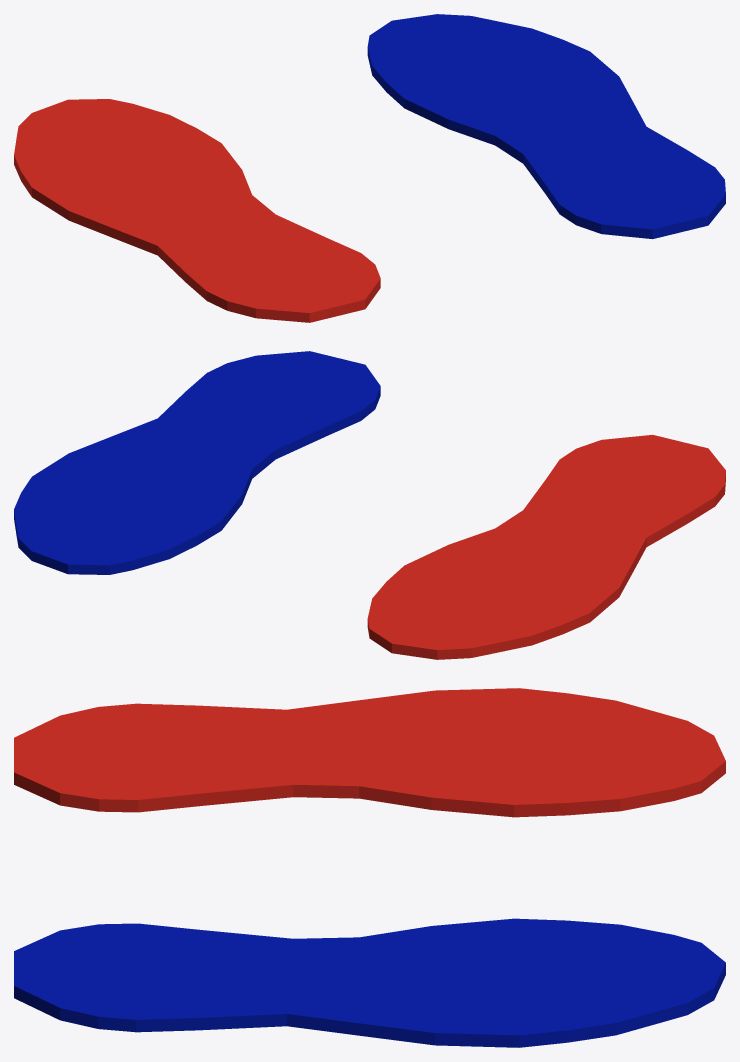
File: objetos_solas.fbx
3 renders of one model, top to bottom at view 1: azimuth 30°, elevation 25°; view 2: azimuth 150°, elevation 25°; view 3: azimuth 270°, elevation 25°, orthographic. The views are drawn at different scales.
Parts seen in each view (by area): view 1: solas; view 2: solas; view 3: solas.
Part boxes in pixels (<box>): solas: <box>14,14,725,322</box>; solas: <box>14,351,725,659</box>; solas: <box>14,688,725,1047</box>.
Bounding box in the file's own units: 1721 × 28.66 × 1491.
